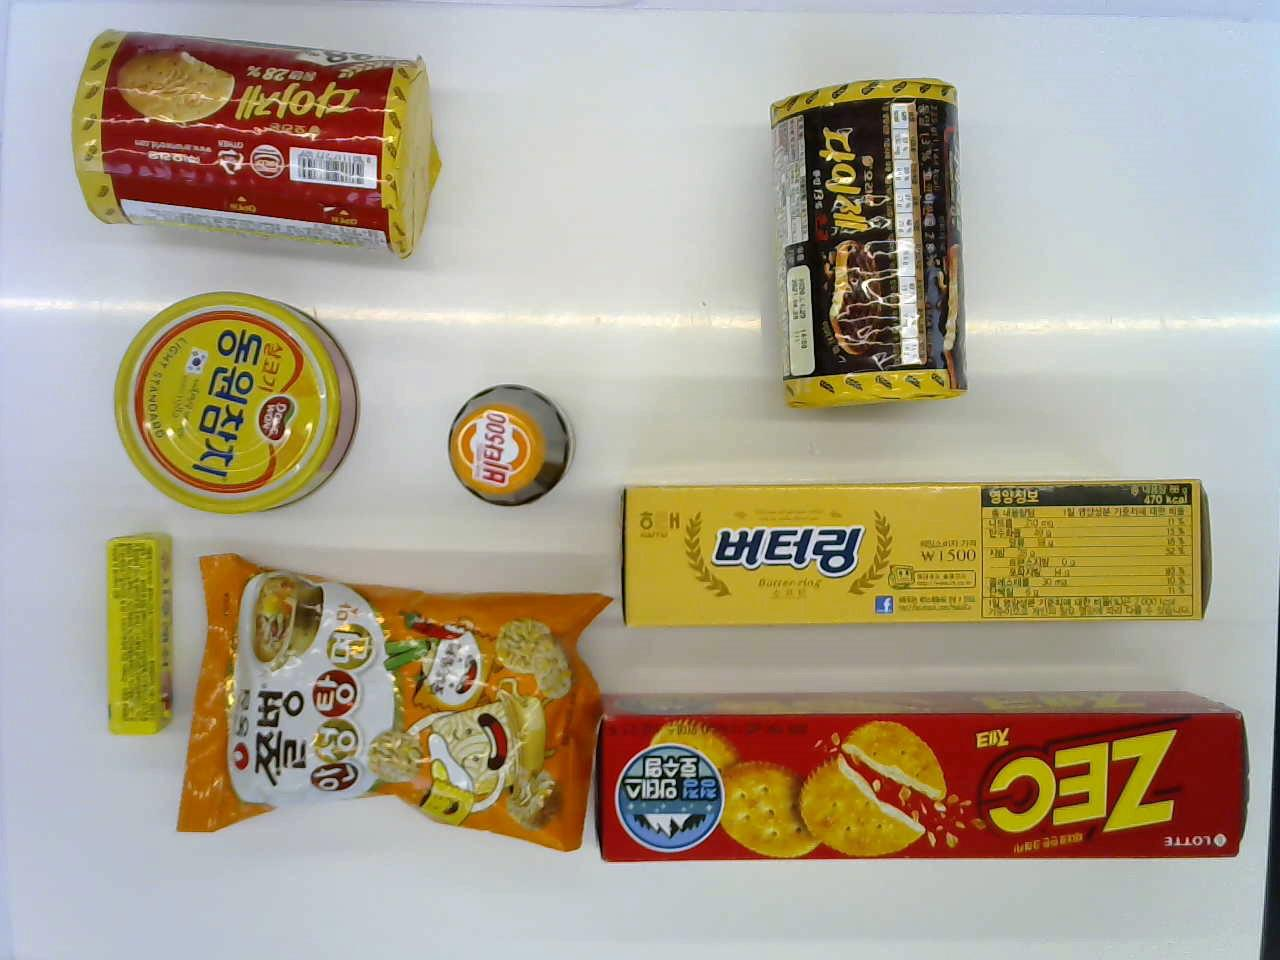buttering: (613, 466, 1215, 635)
diget_choco: (759, 72, 973, 415)
diget_ori: (78, 21, 436, 271)
jjolbyung_noodle: (189, 551, 609, 845)
juicyfresh: (109, 517, 176, 746)
tuna: (111, 289, 360, 521)
vita500: (431, 369, 573, 506)
zec: (605, 678, 1243, 881)
